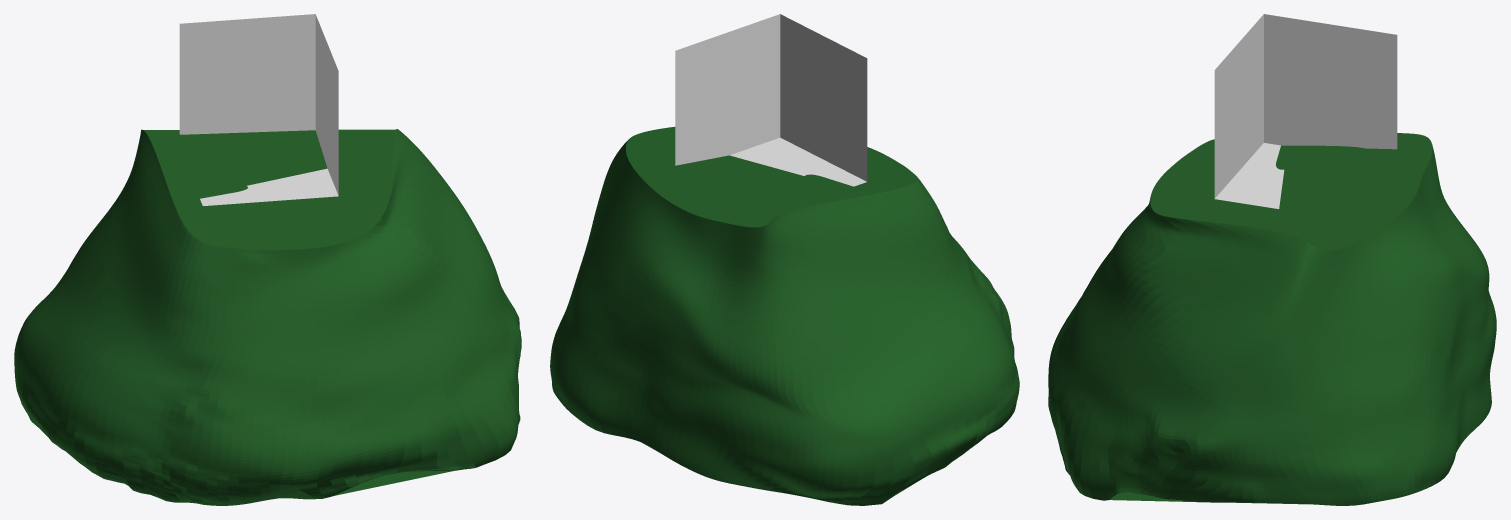
File: AS_Garden.glb
3 views of the same model, side by side, from view 1: azimuth 30°, elevation 25°; view 2: azimuth 150°, elevation 25°; view 3: azimuth 270°, elevation 25° (orthographic). The views are drawn at different scales.
Visible parts, largest first — view 1: Garden_Base, Garden; view 2: Garden_Base, Garden; view 3: Garden_Base, Garden.
Part boxes in pixels (box(x1,y1,x2,y2)): Garden_Base: box(14, 129, 521, 505); Garden: box(179, 14, 338, 205); Garden_Base: box(550, 126, 1019, 505); Garden: box(675, 14, 867, 186); Garden_Base: box(1048, 133, 1496, 505); Garden: box(1214, 14, 1397, 208).
Size of what is drawn, in the model's own units: 1887 by 1588 by 1677.
